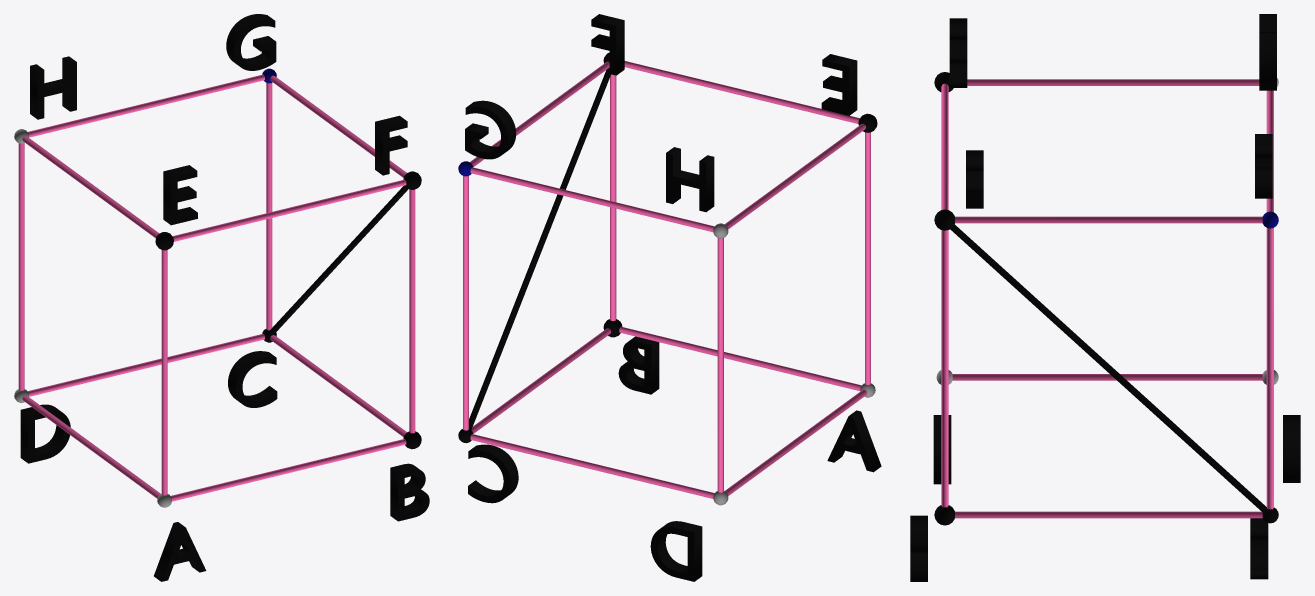
Rendered from res_10036.glb.
3 renders of one model, left to right at view 1: azimuth 30°, elevation 25°; view 2: azimuth 150°, elevation 25°; view 3: azimuth 270°, elevation 25°, orthographic. The views are drawn at different scales.
Visible parts, largest first — view 1: Text.006, Text.007, Text.001, Text.003, imagetostl_mesh14, imagetostl_mesh8, imagetostl_mesh10, imagetostl_mesh17, imagetostl_mesh15, imagetostl_mesh11, imagetostl_mesh9, imagetostl_mesh19 (+9 smaller); view 2: imagetostl_mesh20, Text.003, Text.006, Text.007, Text.001, imagetostl_mesh14, imagetostl_mesh15, imagetostl_mesh19, imagetostl_mesh10, Text.004, imagetostl_mesh11, imagetostl_mesh9 (+9 smaller); view 3: imagetostl_mesh20, imagetostl_mesh16, imagetostl_mesh18, imagetostl_mesh17, imagetostl_mesh10, imagetostl_mesh13, imagetostl_mesh12, Text.007, Text.004, Text.003, Text.001, Text.006 (+5 smaller).
Part boxes in pixels (x1,y1,x2,y2): Text.006: [226, 14, 276, 70]; Text.007: [30, 56, 76, 119]; Text.001: [390, 463, 429, 521]; Text.003: [20, 404, 70, 463]; imagetostl_mesh14: [18, 143, 24, 390]; imagetostl_mesh8: [161, 250, 167, 495]; imagetostl_mesh10: [409, 189, 415, 433]; imagetostl_mesh17: [266, 83, 272, 330]; imagetostl_mesh15: [27, 74, 264, 137]; imagetostl_mesh11: [171, 439, 406, 501]; imagetostl_mesh9: [172, 179, 406, 241]; imagetostl_mesh19: [27, 334, 264, 396]; imagetostl_mesh20: [469, 68, 610, 429]; Text.003: [650, 521, 702, 581]; Text.006: [465, 100, 515, 159]; Text.007: [666, 147, 714, 212]; Text.001: [618, 336, 659, 394]; imagetostl_mesh14: [717, 238, 723, 492]; imagetostl_mesh15: [470, 167, 714, 232]; imagetostl_mesh19: [470, 434, 714, 498]; imagetostl_mesh10: [610, 74, 616, 321]; Text.004: [821, 54, 857, 115]; imagetostl_mesh11: [619, 326, 861, 391]; imagetostl_mesh9: [624, 61, 859, 123]; imagetostl_mesh20: [950, 224, 1266, 512]; imagetostl_mesh16: [955, 216, 1262, 223]; imagetostl_mesh18: [955, 511, 1262, 518]; imagetostl_mesh17: [1266, 228, 1273, 509]; imagetostl_mesh10: [941, 230, 948, 507]; imagetostl_mesh13: [952, 374, 1262, 380]; imagetostl_mesh12: [967, 79, 1259, 85]; Text.007: [1259, 14, 1276, 90]; Text.004: [949, 18, 967, 87]; Text.003: [1283, 415, 1300, 482]; Text.001: [910, 515, 927, 581]; Text.006: [1255, 134, 1272, 198].
Size of the model in its own units: 1.07 by 1.55 by 1.2.
